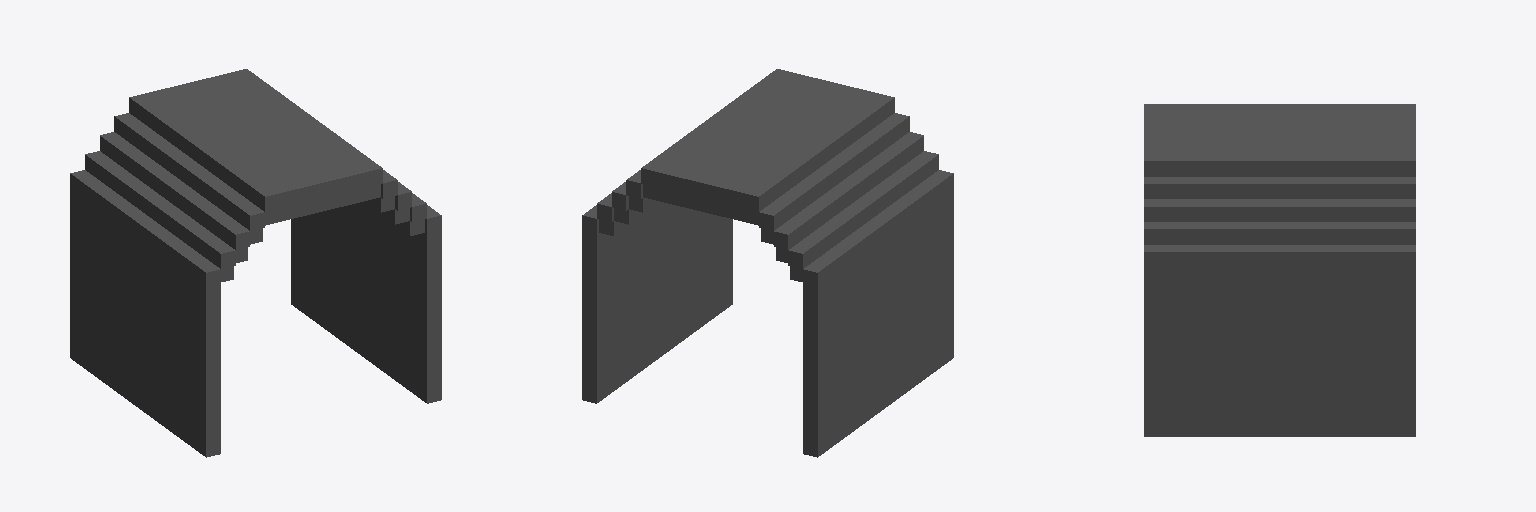
The picture shows the model from 3 angles: view 1: azimuth 30°, elevation 25°; view 2: azimuth 150°, elevation 25°; view 3: azimuth 270°, elevation 25°; orthographic projection.
Parts seen in each view (by area): view 1: object 1; view 2: object 1; view 3: object 1.
Boxes of the visible parts, box(x1,y1,x2,y2) form: object 1: box(70, 69, 441, 457); object 1: box(582, 69, 953, 457); object 1: box(1144, 104, 1415, 436).
Bounding box in the file's own units: 6.4 × 6.4 × 6.4.
1 materials, 1 textured.